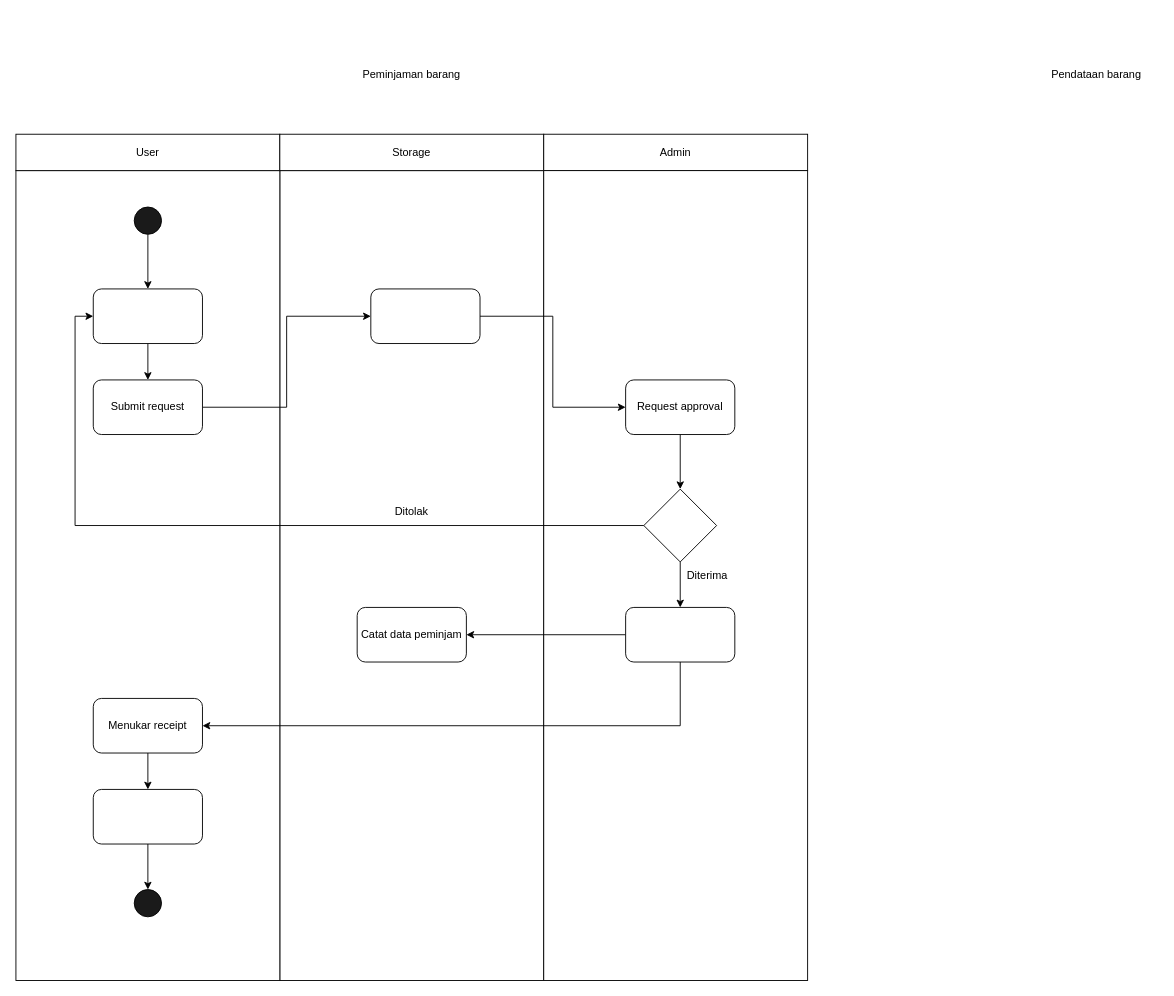
The diagram is 1174 pixels wide and 996 high, and some of its shapes have lost their labels. The centre of each missing label's shape, as x and y in pixels:
"Cek stok barang" goes at point 425,316.
"Menerima barang" goes at point 147,816.
"Mengisi data" goes at point 147,316.
"Print receipt" goes at point 680,634.
